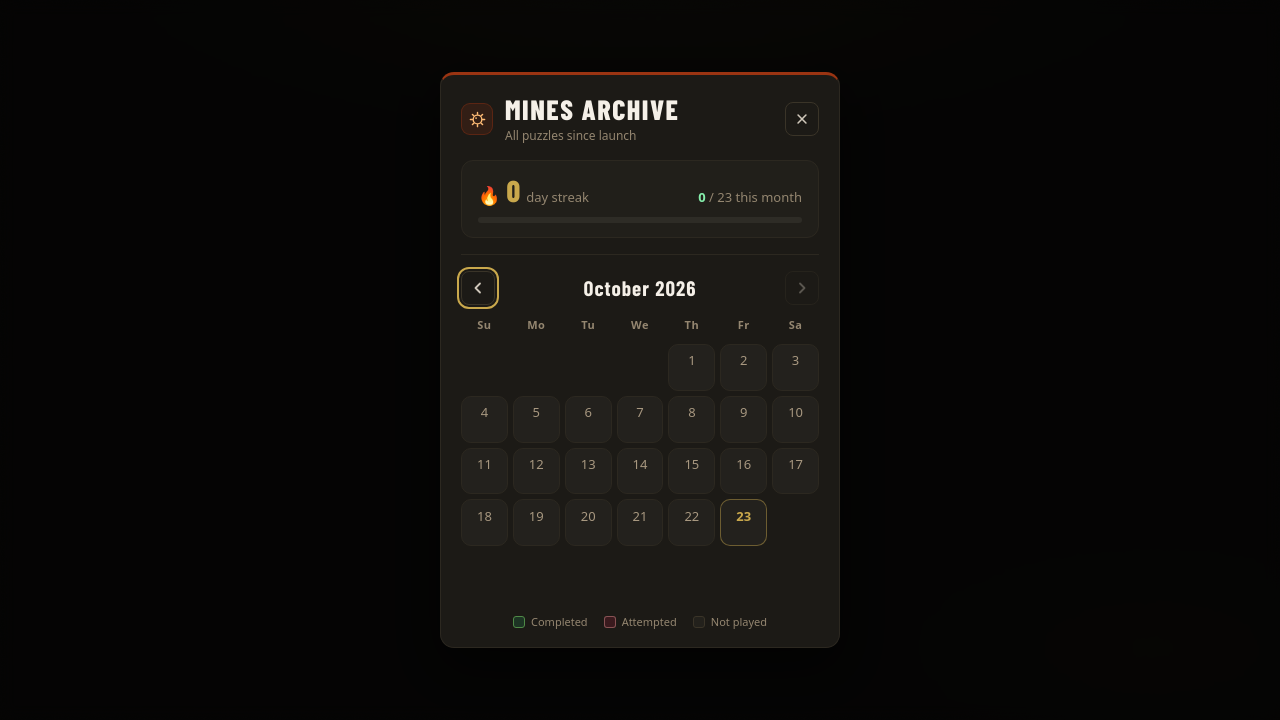
Scenario: Archive calendar › reads the new month out, and keeps focus in the dialog when an arrow disables itself
Click the button named "Previous month" at [478, 288], box x1=461 y1=271 x2=495 y2=305
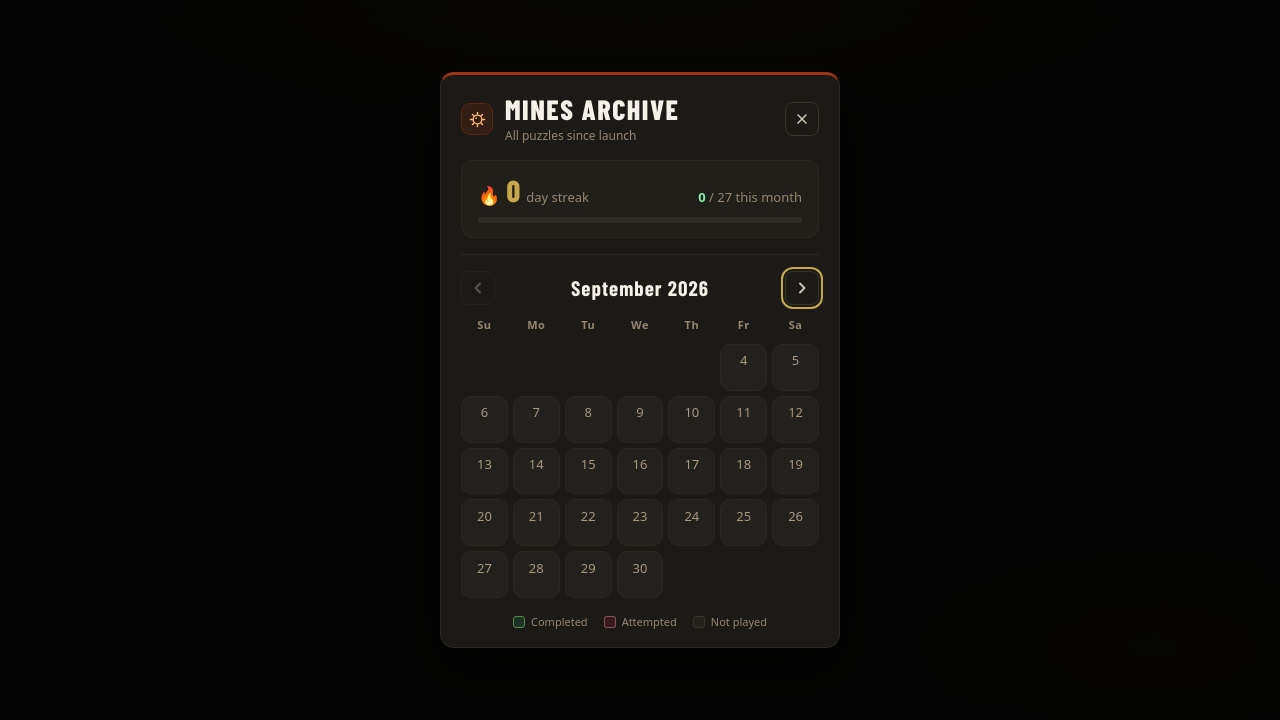
Check: the text with class "ar-month" reads "September 2026", box x1=571 y1=275 x2=709 y2=300
Click the button named "Next month" at [802, 288], box x1=785 y1=271 x2=819 y2=305
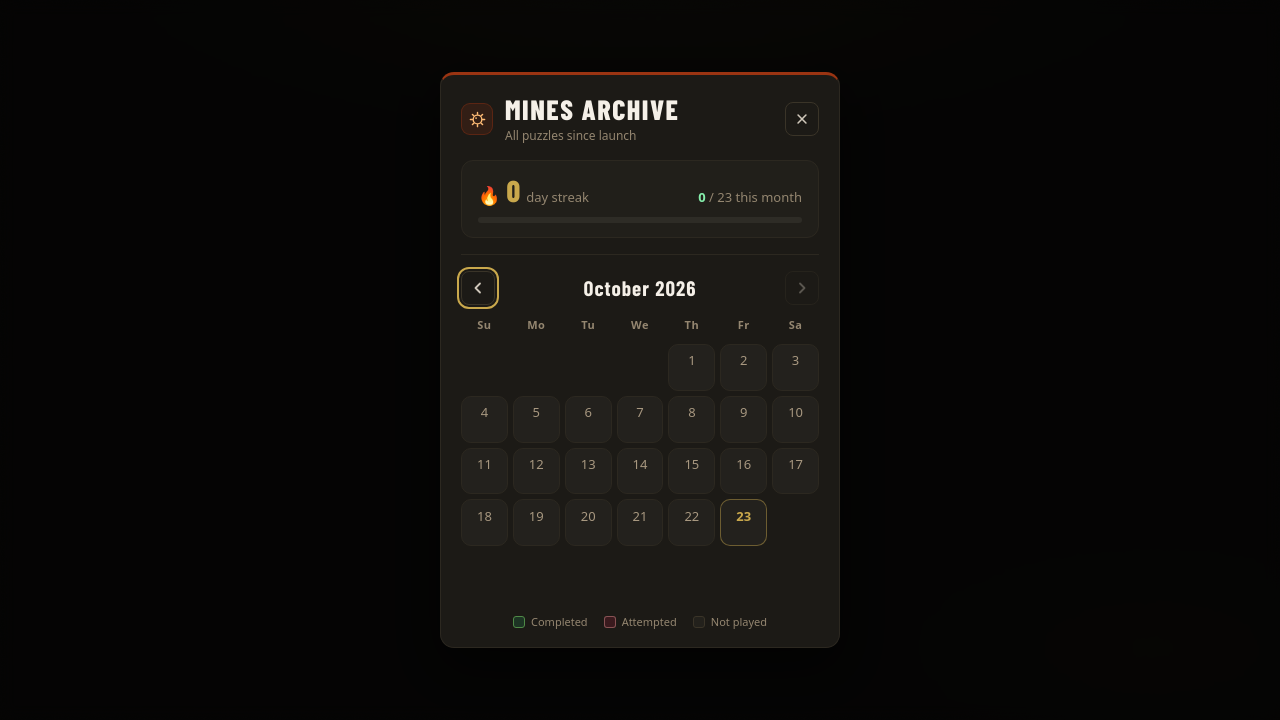
Check: the text with class "ar-month" reads "October 2026", box x1=584 y1=275 x2=696 y2=300
